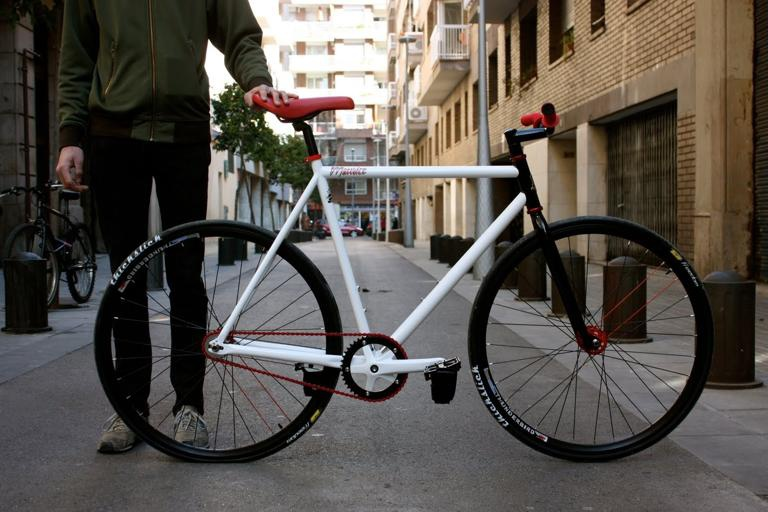non-vehicle: (93, 91, 713, 462), (0, 179, 97, 308)
